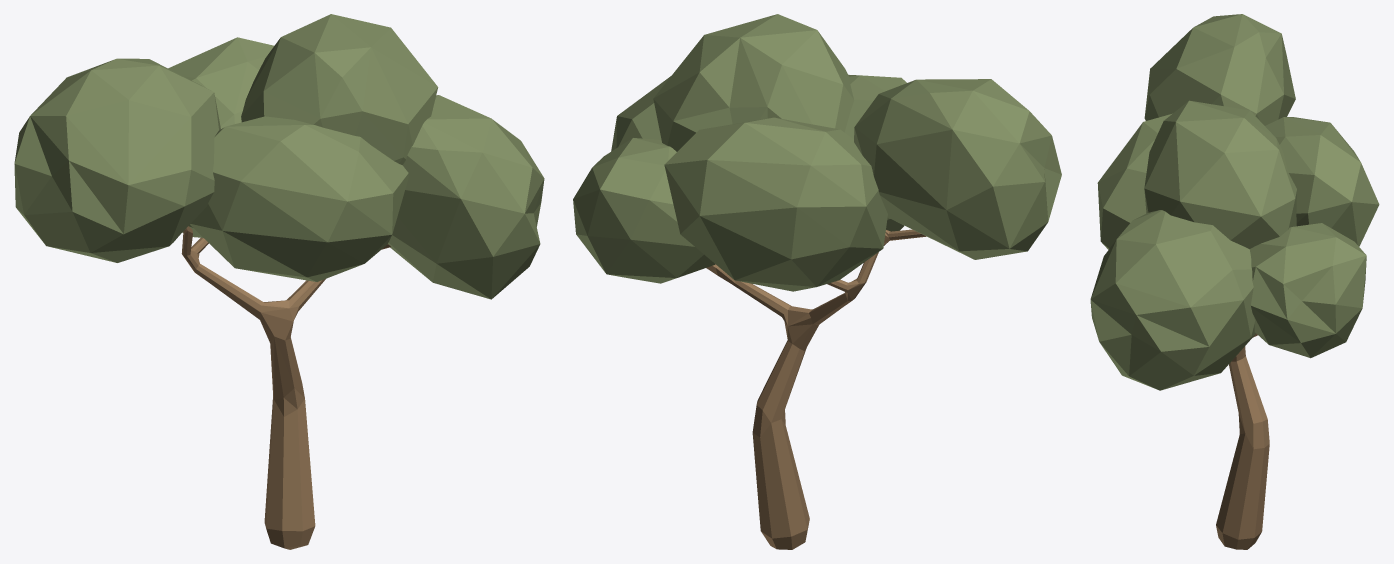
File: tree3.fbx
3 views of the same model, side by side, from view 1: azimuth 30°, elevation 25°; view 2: azimuth 150°, elevation 25°; view 3: azimuth 270°, elevation 25° (orthographic). The views are drawn at different scales.
Visible parts, largest first — view 1: Sphere.005; view 2: Sphere.005; view 3: Sphere.005.
Part boxes in pixels (<box>): Sphere.005: <box>14,14,544,549</box>; Sphere.005: <box>573,14,1061,549</box>; Sphere.005: <box>1090,14,1379,549</box>.
Bounding box in the file's own units: 633 × 662 × 384.
1 material, 1 textured.
